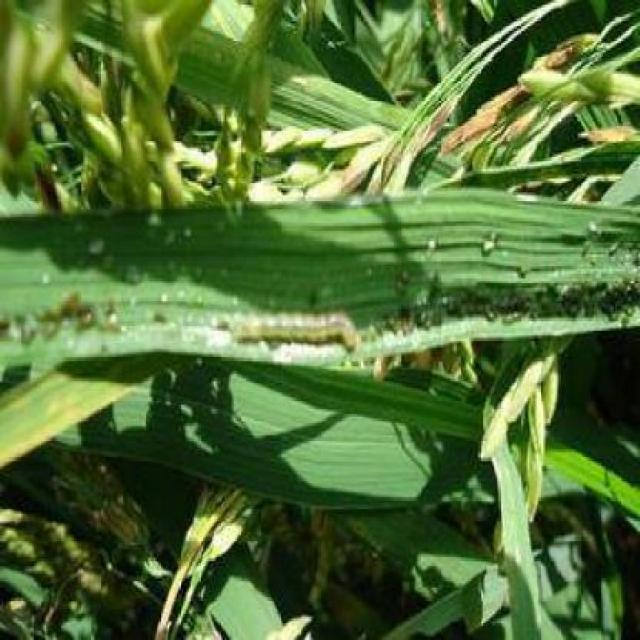leaf-folder: (203, 280, 385, 380)
